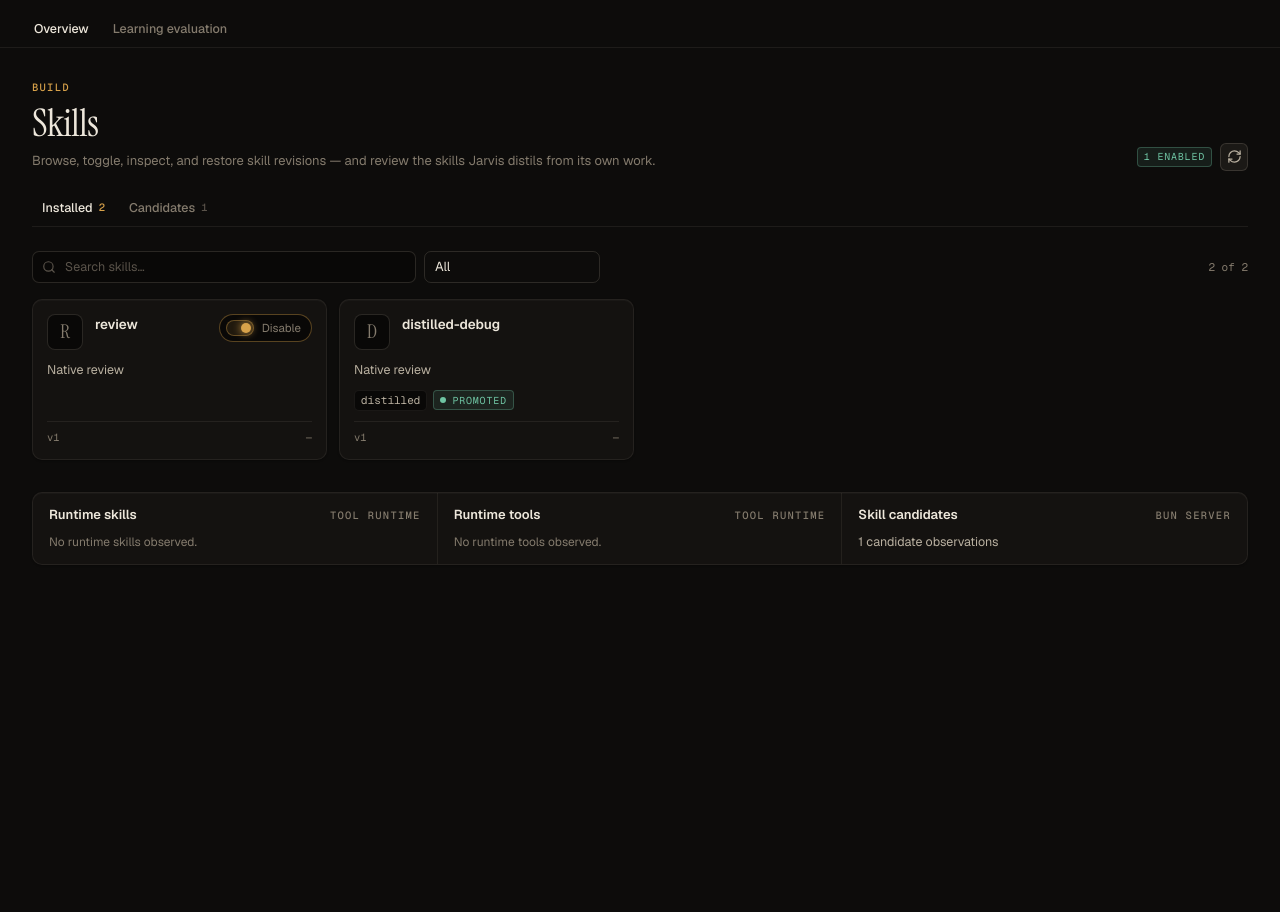
Test: promoted-skill performance read › announces a transport failure as unavailable instead of hiding the panel
Click the button with aria-label "Inspect skill: distilled-debug".
click(451, 324)  # box [402,314,500,334]
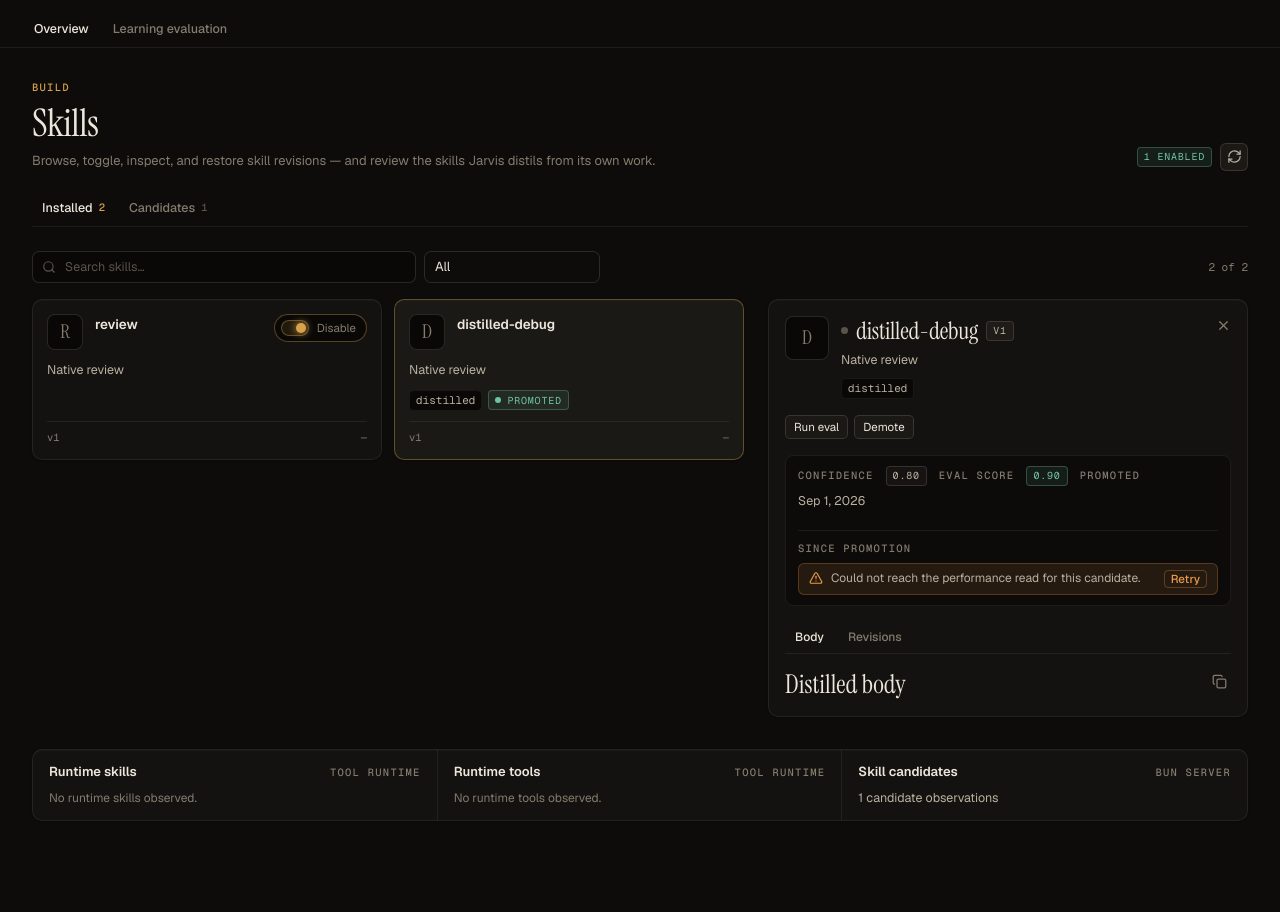
Expected: the text "Since promotion" is shown, [798,541,911,557]
Expected: the message shows "Could not reach", [831,570,1140,586]
Expected: the heading "Distilled body" is shown, [785,667,906,701]
